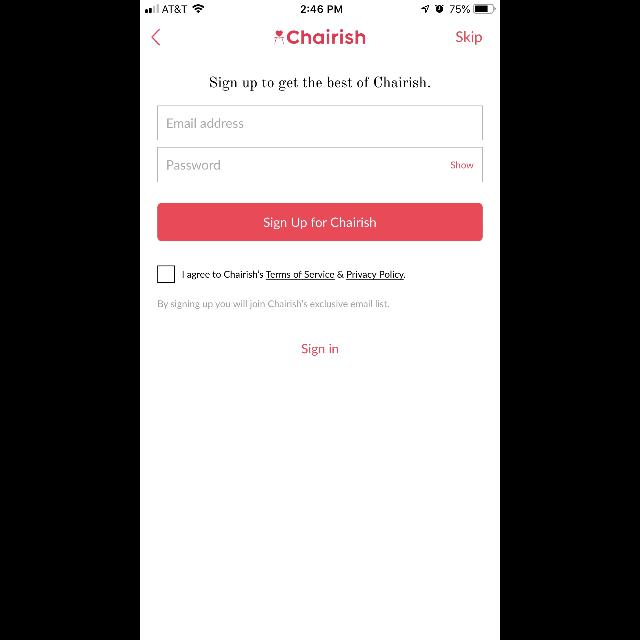checkbox: (158, 266, 174, 282)
icon: (152, 28, 160, 46)
image: (274, 31, 284, 44)
input: (158, 148, 482, 182), (158, 106, 482, 140)
text: (210, 77, 430, 91), (159, 300, 389, 310), (183, 270, 405, 280), (287, 30, 365, 44), (168, 118, 244, 128), (168, 160, 220, 170), (302, 344, 338, 356), (456, 31, 482, 45), (451, 162, 473, 168)
textbutton: (158, 203, 482, 241)
uppertaskbar: (140, 0, 500, 14)
